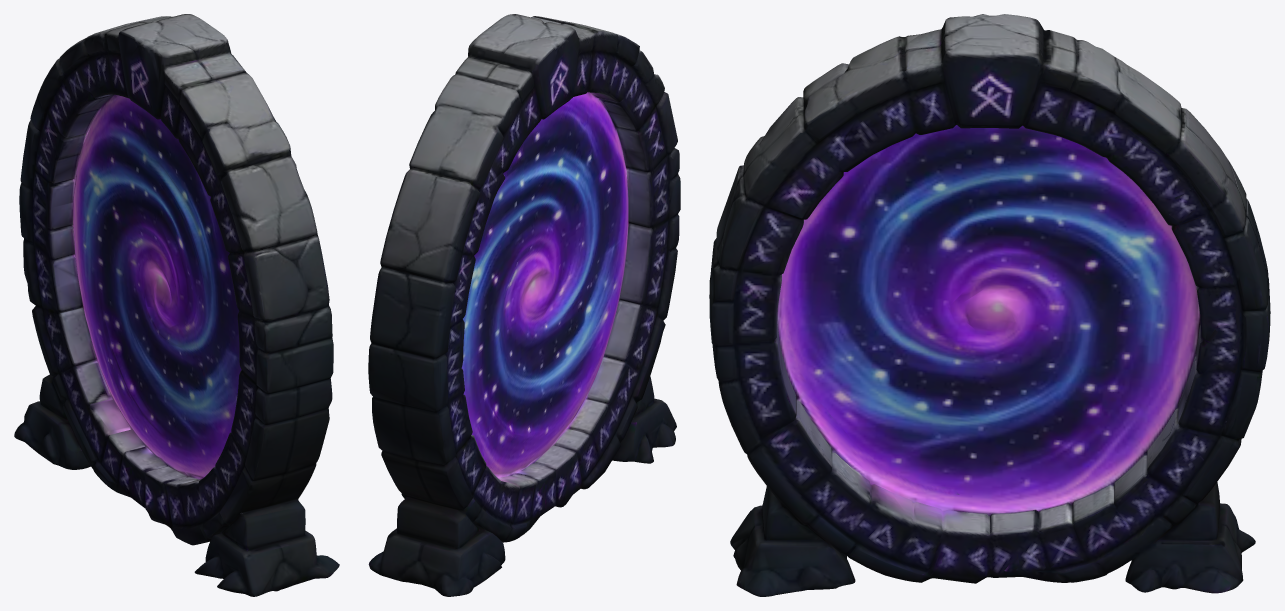
File: portal-real.glb
3 renders of one model, left to right at view 1: azimuth 30°, elevation 25°; view 2: azimuth 150°, elevation 25°; view 3: azimuth 270°, elevation 25°, orthographic. The views are drawn at different scales.
Parts seen in each view (by area): view 1: node_0; view 2: node_0; view 3: node_0.
Boxes of the visible parts, bbox=[...] form: node_0: bbox=[14, 14, 339, 596]; node_0: bbox=[368, 14, 680, 596]; node_0: bbox=[709, 14, 1270, 596].
Bounding box in the file's own units: 0.2281 × 0.8926 × 0.8487.
1 material, 1 textured.
